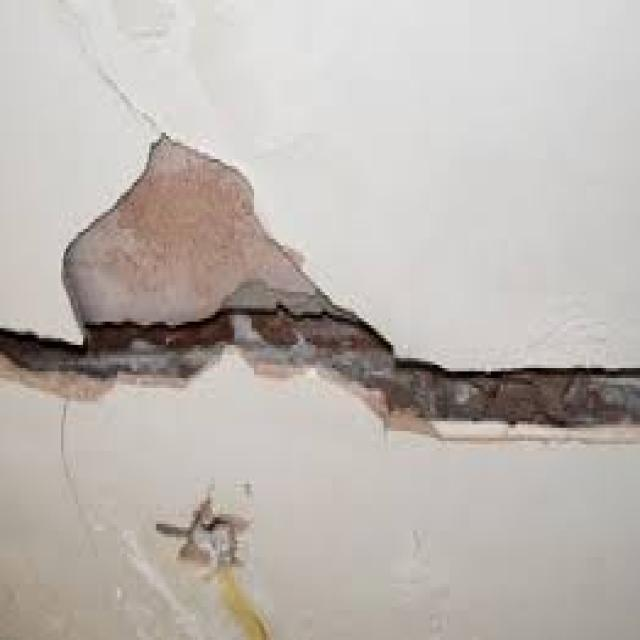Crack: (0, 103, 638, 441)
